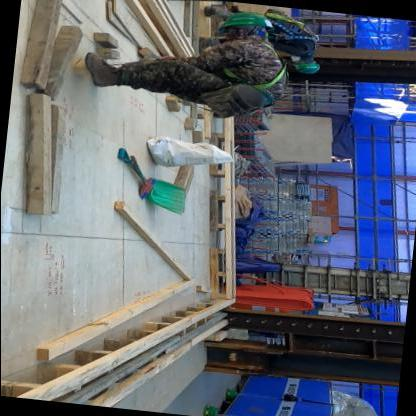Helmet: (214, 10, 279, 34)
safety-shoe: (72, 45, 129, 99)
